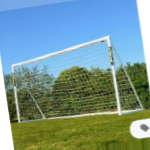goals: (10, 33, 146, 122)
